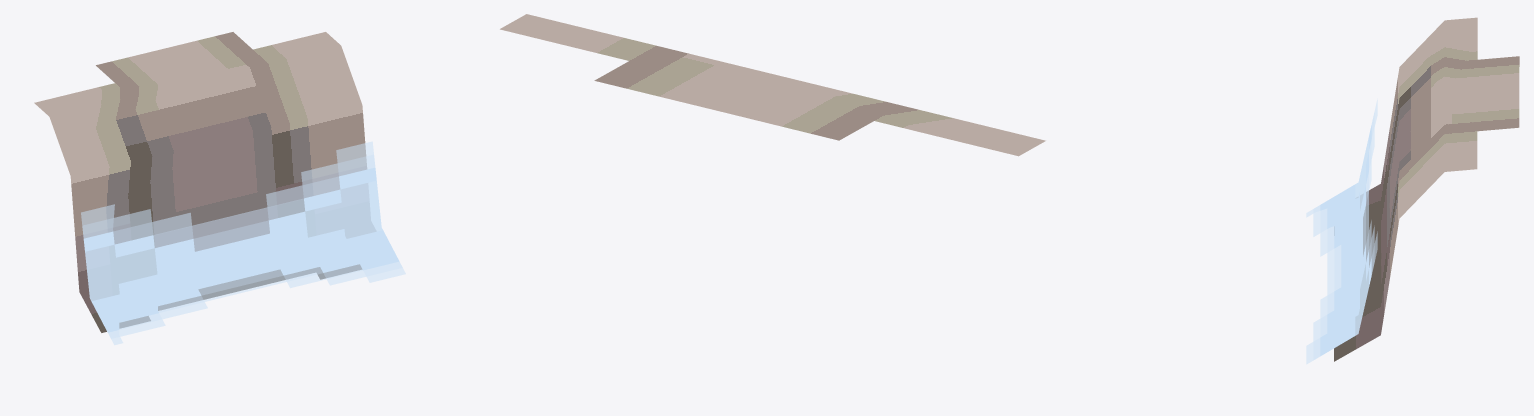
The picture shows the model from 3 angles, left to right: view 1: azimuth 30°, elevation 25°; view 2: azimuth 150°, elevation 25°; view 3: azimuth 270°, elevation 25°; orthographic projection. The views are drawn at different scales.
Size of the model in its own units: 1 by 0.7266 by 0.7708.
2 materials, 2 textured.
